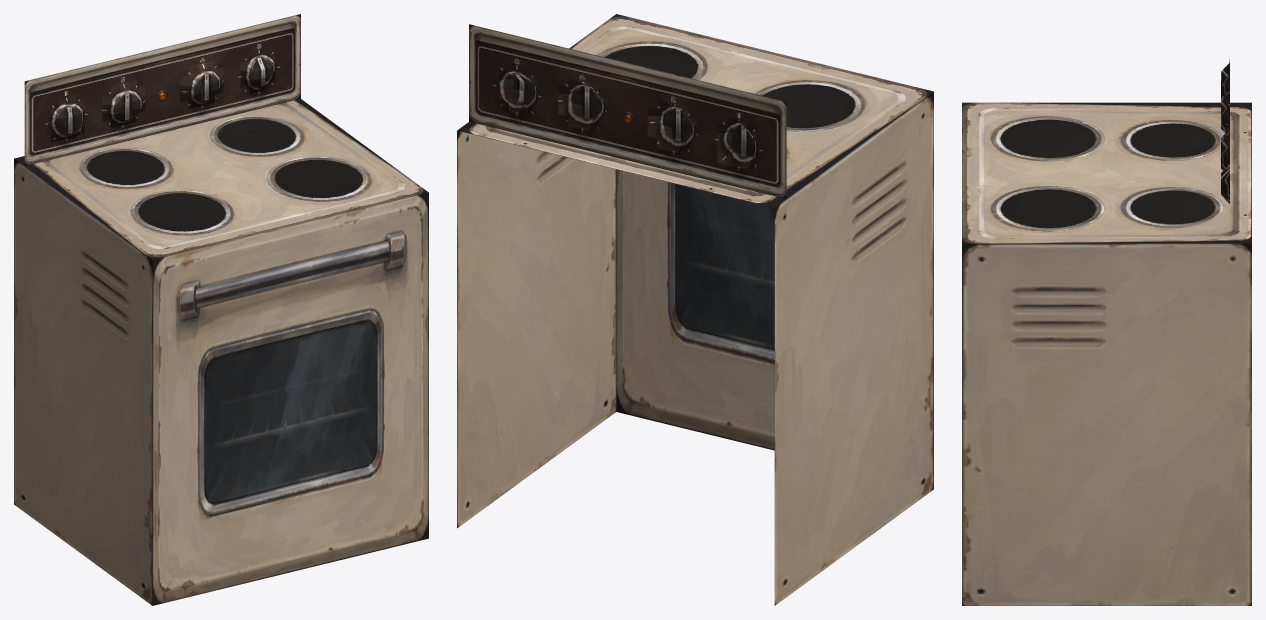
The model's file is stress_b_v5_no_drawer.glb.
3 renders of one model, left to right at view 1: azimuth 30°, elevation 25°; view 2: azimuth 150°, elevation 25°; view 3: azimuth 270°, elevation 25°, orthographic. The views are drawn at different scales.
Visible parts, largest first — view 1: stress_b_v5_no_drawer_front_door, stress_b_v5_no_drawer_left, stress_b_v5_no_drawer_cooktop, stress_b_v5_no_drawer_backguard; view 2: stress_b_v5_no_drawer_left, stress_b_v5_no_drawer_right, stress_b_v5_no_drawer_front_door, stress_b_v5_no_drawer_backguard, stress_b_v5_no_drawer_cooktop; view 3: stress_b_v5_no_drawer_right, stress_b_v5_no_drawer_cooktop, stress_b_v5_no_drawer_backguard.
Boxes of the visible parts, bbox=[...] form: stress_b_v5_no_drawer_front_door: bbox=[152, 192, 428, 605]; stress_b_v5_no_drawer_left: bbox=[14, 158, 152, 605]; stress_b_v5_no_drawer_cooktop: bbox=[14, 99, 428, 259]; stress_b_v5_no_drawer_backguard: bbox=[24, 14, 300, 165]; stress_b_v5_no_drawer_left: bbox=[774, 91, 933, 605]; stress_b_v5_no_drawer_right: bbox=[457, 130, 616, 528]; stress_b_v5_no_drawer_front_door: bbox=[616, 169, 774, 450]; stress_b_v5_no_drawer_backguard: bbox=[469, 24, 786, 198]; stress_b_v5_no_drawer_cooktop: bbox=[457, 14, 933, 207]; stress_b_v5_no_drawer_right: bbox=[962, 243, 1251, 605]; stress_b_v5_no_drawer_cooktop: bbox=[962, 102, 1251, 243]; stress_b_v5_no_drawer_backguard: bbox=[1221, 59, 1229, 203].
Size of the model in its own units: 0.76 by 1.13 by 0.66.
1 material, 1 textured.
